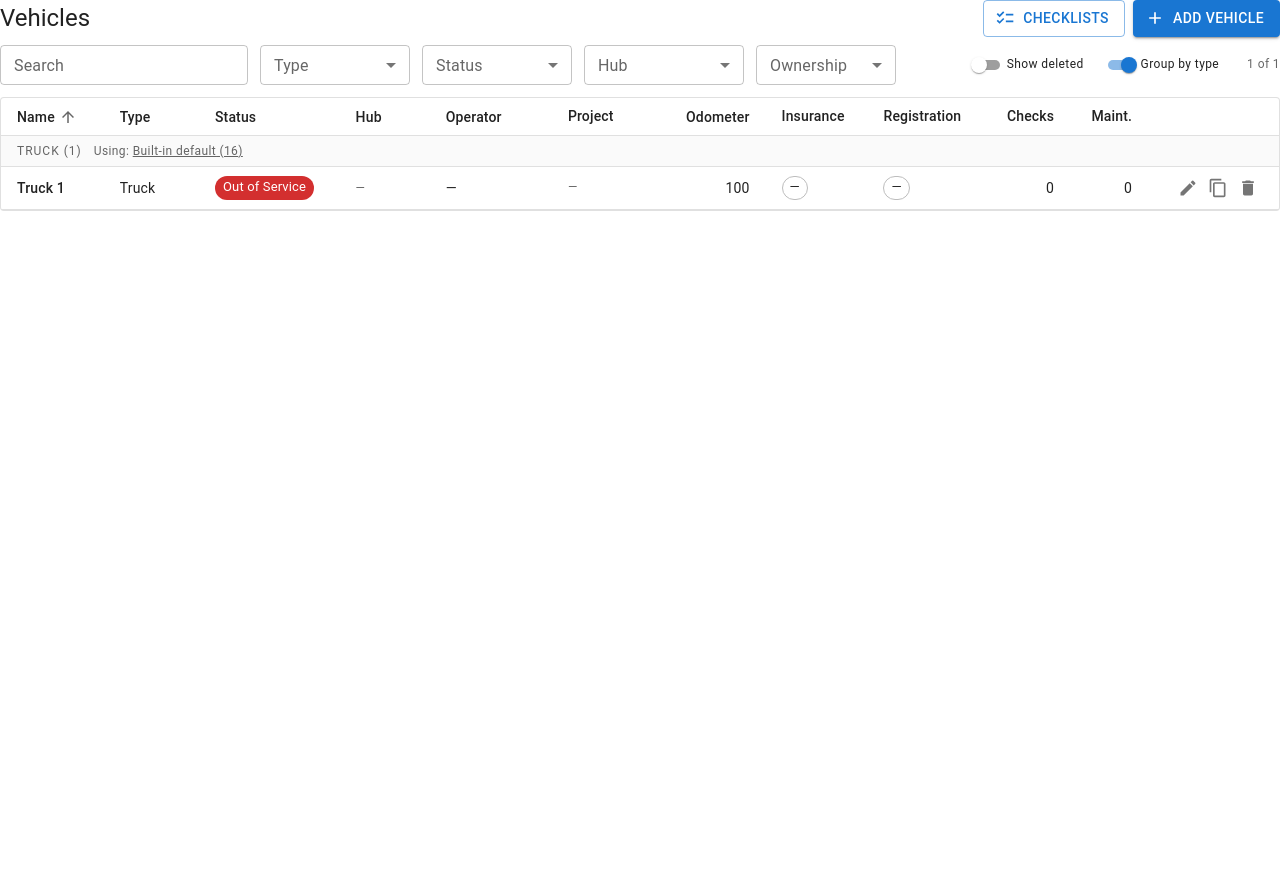
it: vehicle drawer — derived and admin-owned states (D-g) › OUT_OF_SERVICE with a repair still open: the confirm says it will show as In Maintenance
Click the text "Truck 1" at (41, 188), box [17,178,65,198]
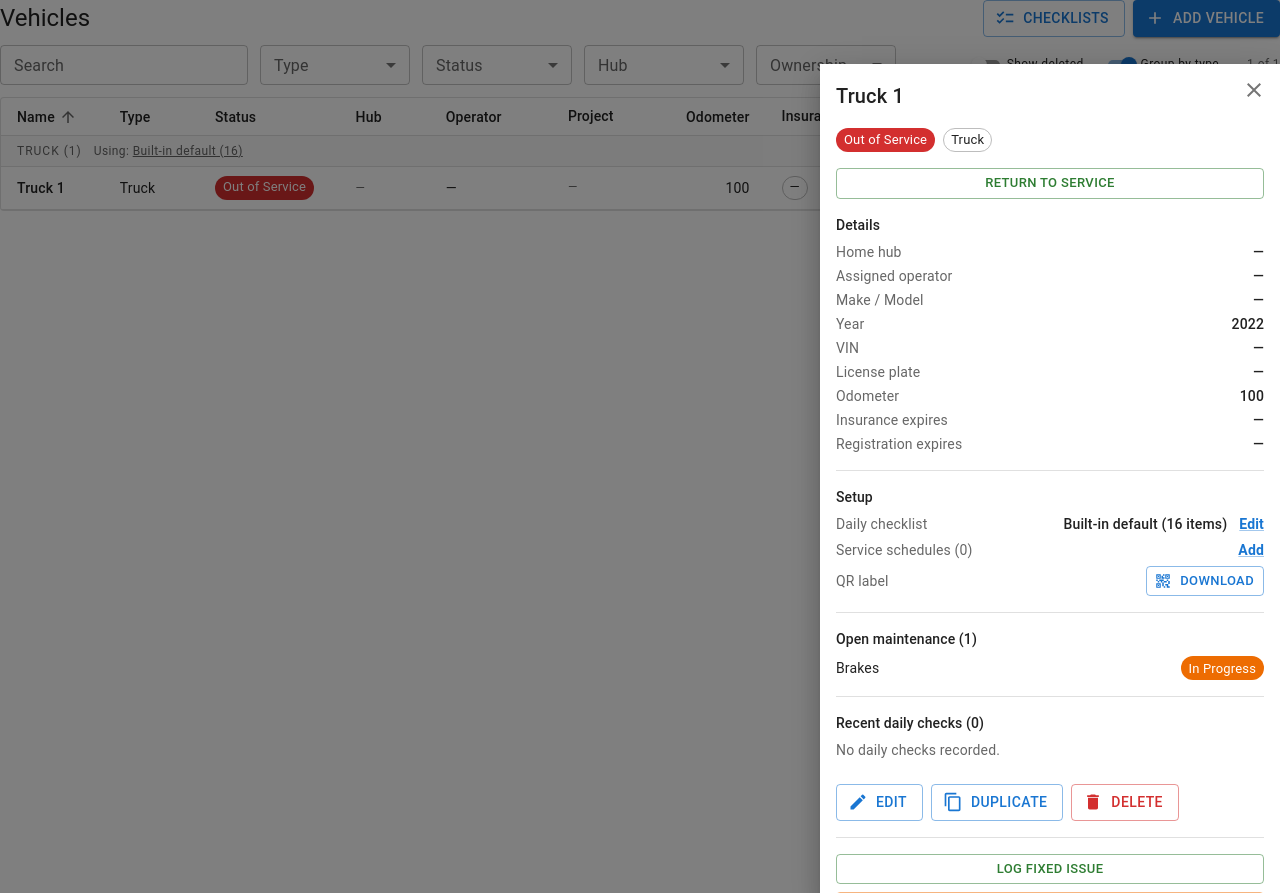
Click the button "Return to service" at (1050, 183), box [836,168,1264,199]
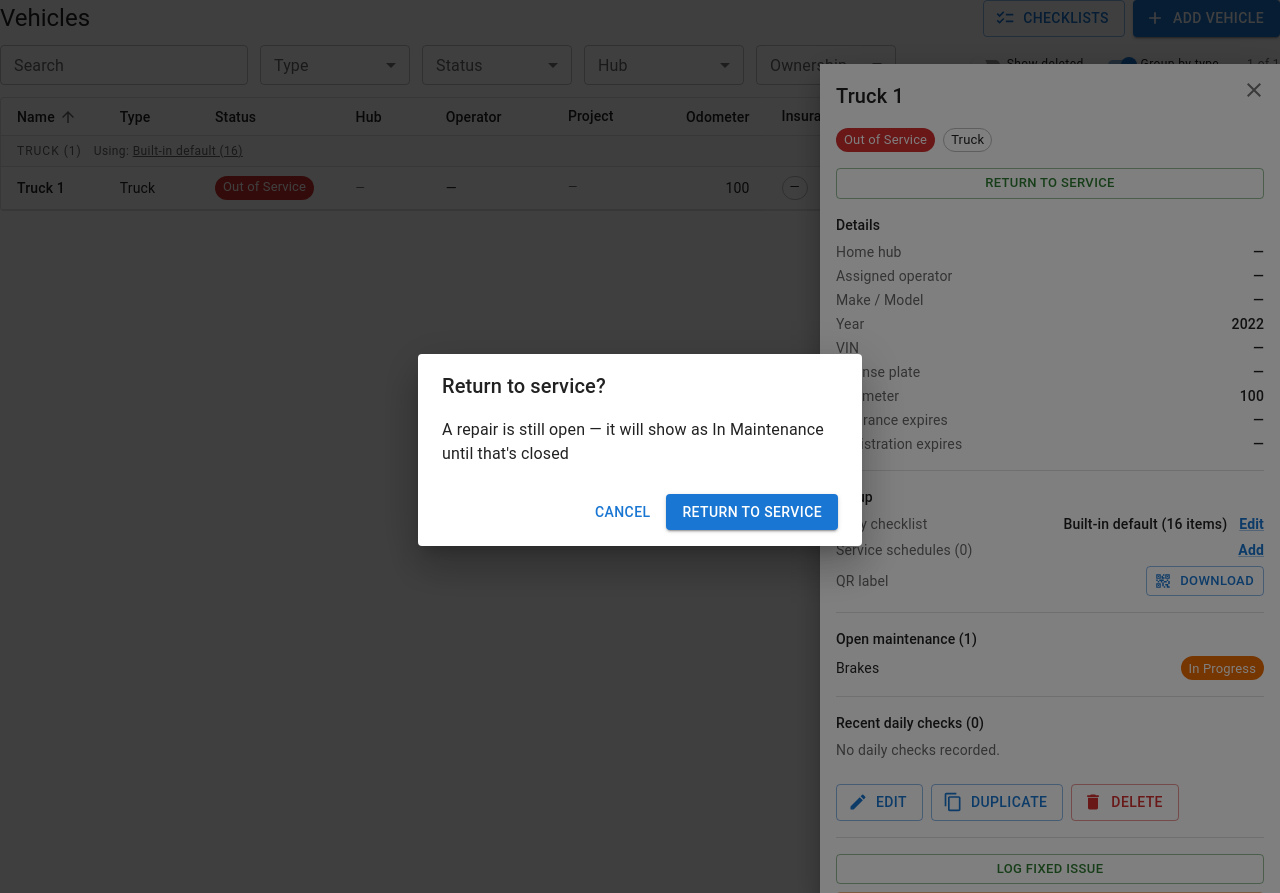
Check: the dialog "Return to service?" shows "A repair is still open — it will show as In Maintenance until that's closed", box [442,420,824,463]
